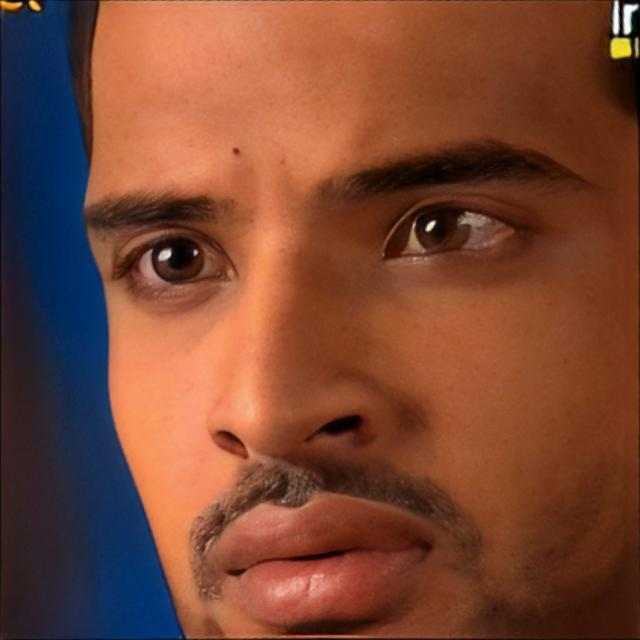anger: (80, 49, 615, 640)
